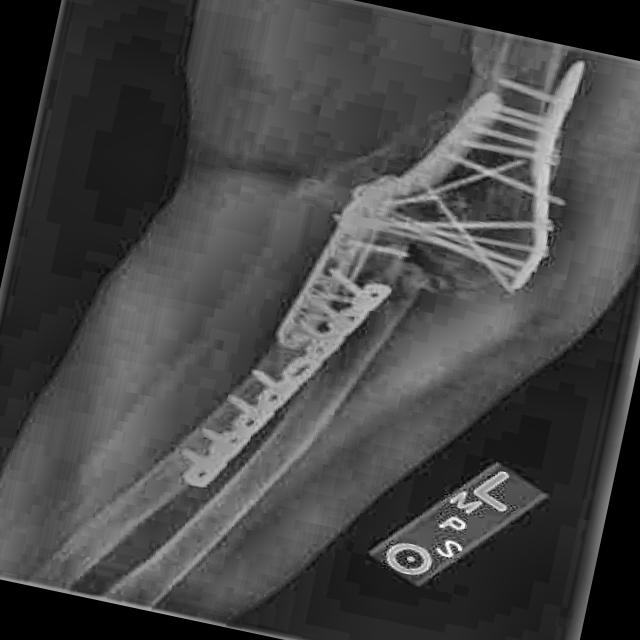elbow positive: (383, 238, 498, 312)
